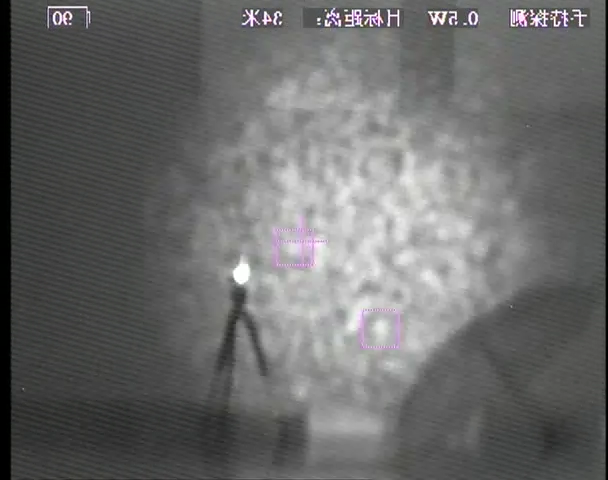my: (230, 261, 251, 287)
